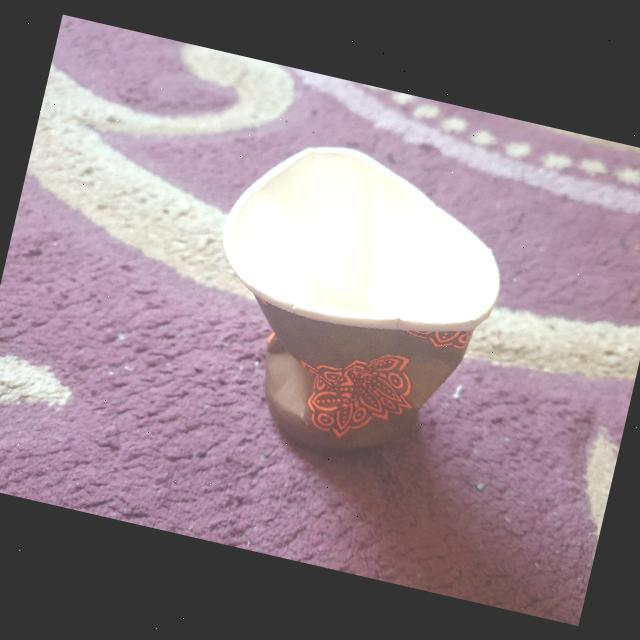trash: (170, 115, 530, 488)
